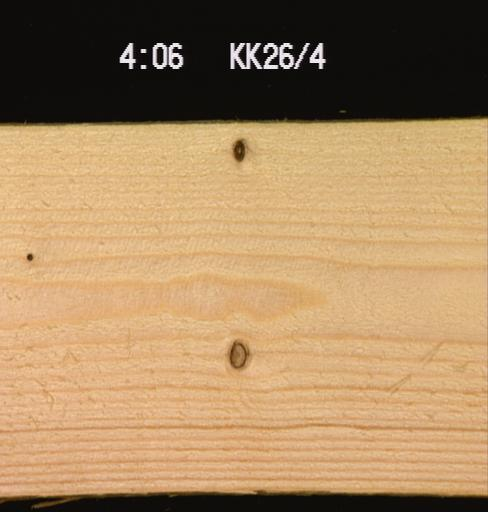dry_knot: (226, 337, 248, 370), (230, 136, 246, 162)
small_knot: (22, 248, 34, 262)
